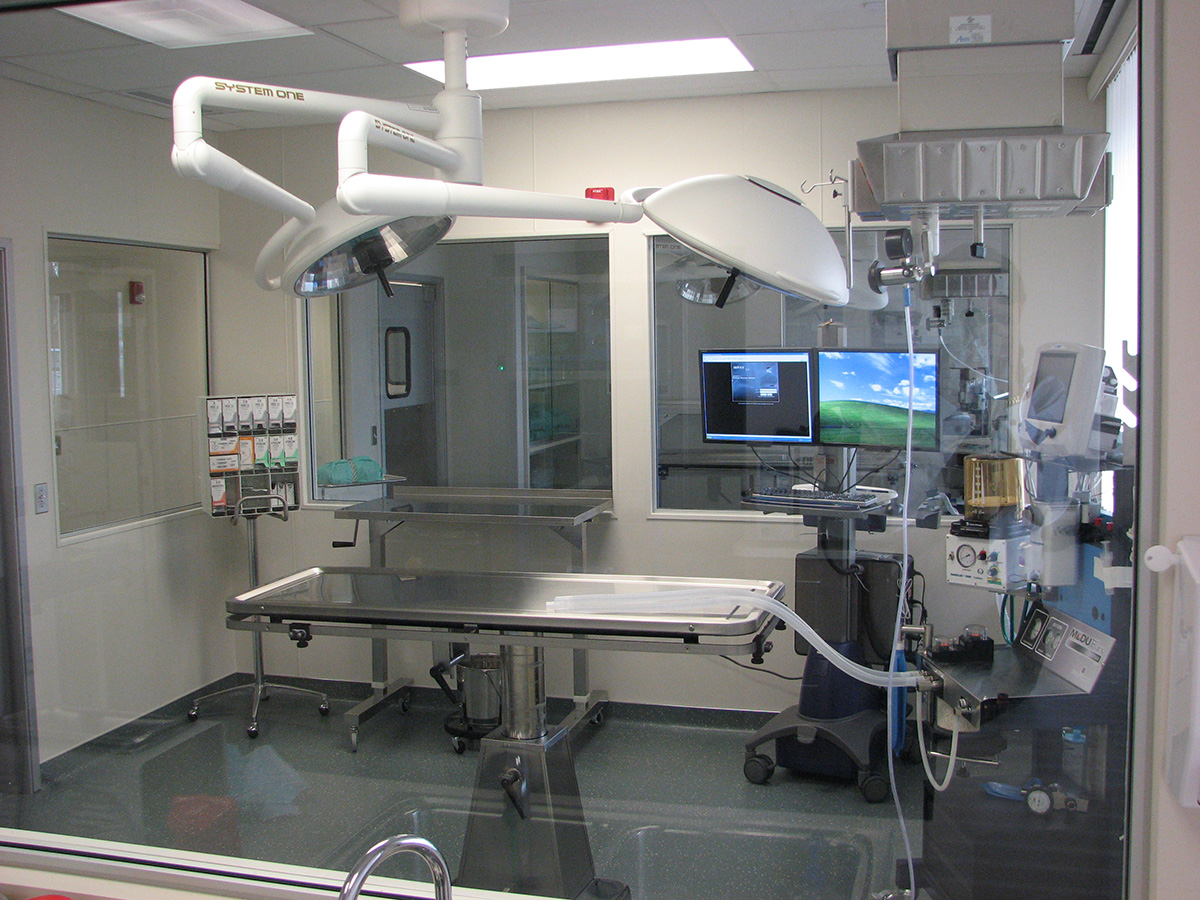bedside_monitor: (1013, 345, 1105, 454)
breathing_tube: (545, 581, 952, 709)
computer: (815, 345, 943, 455), (697, 347, 815, 448)
door_handle: (1138, 527, 1200, 814)
faucet: (320, 832, 466, 900)
keyboard: (751, 487, 879, 509)
mouse: (883, 501, 907, 517)
operating_bed: (214, 561, 806, 806)
surgical_light: (242, 166, 444, 312), (650, 162, 852, 308)
table: (336, 495, 616, 529)
